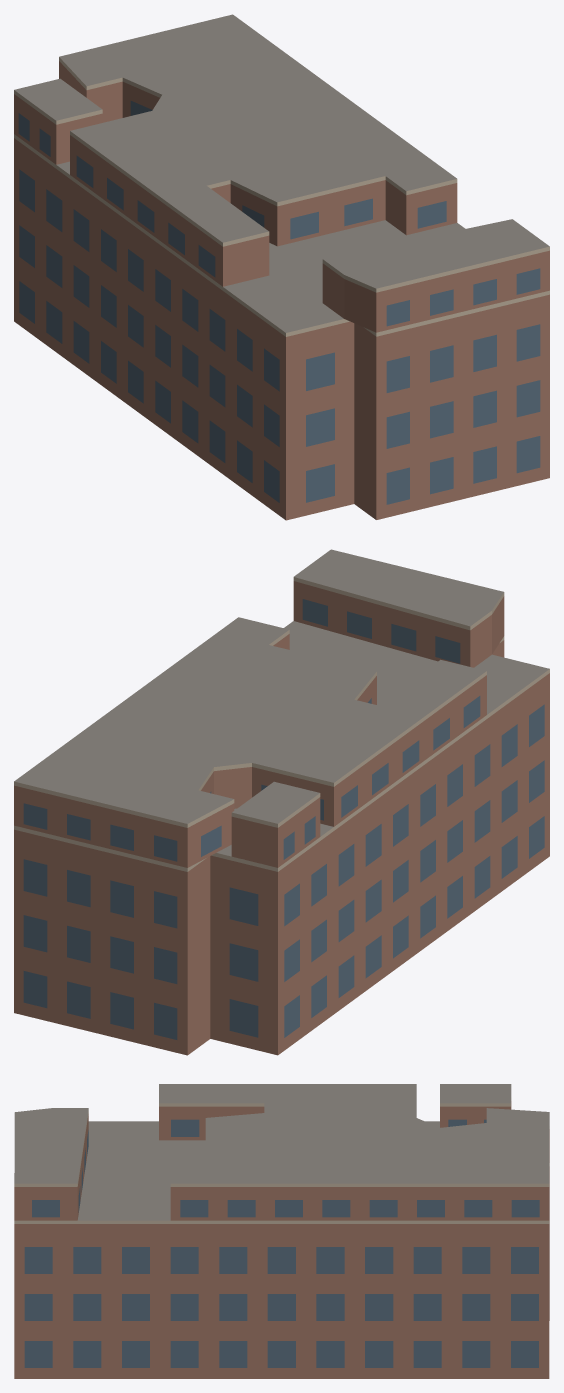
Rendered from dc-au-beeghly-building.glb.
3 renders of one model, top to bottom at view 1: azimuth 30°, elevation 25°; view 2: azimuth 150°, elevation 25°; view 3: azimuth 270°, elevation 25°, orthographic. The views are drawn at different scales.
Parts seen in each view (by area): view 1: Beeghly Building; view 2: Beeghly Building; view 3: Beeghly Building.
Part boxes in pixels (x1,y1,x2,y2): Beeghly Building: (14,14,549,520); Beeghly Building: (14,549,549,1055); Beeghly Building: (14,1084,549,1378).
Size of the model in its own units: 20.16 by 18.4 by 45.77.
